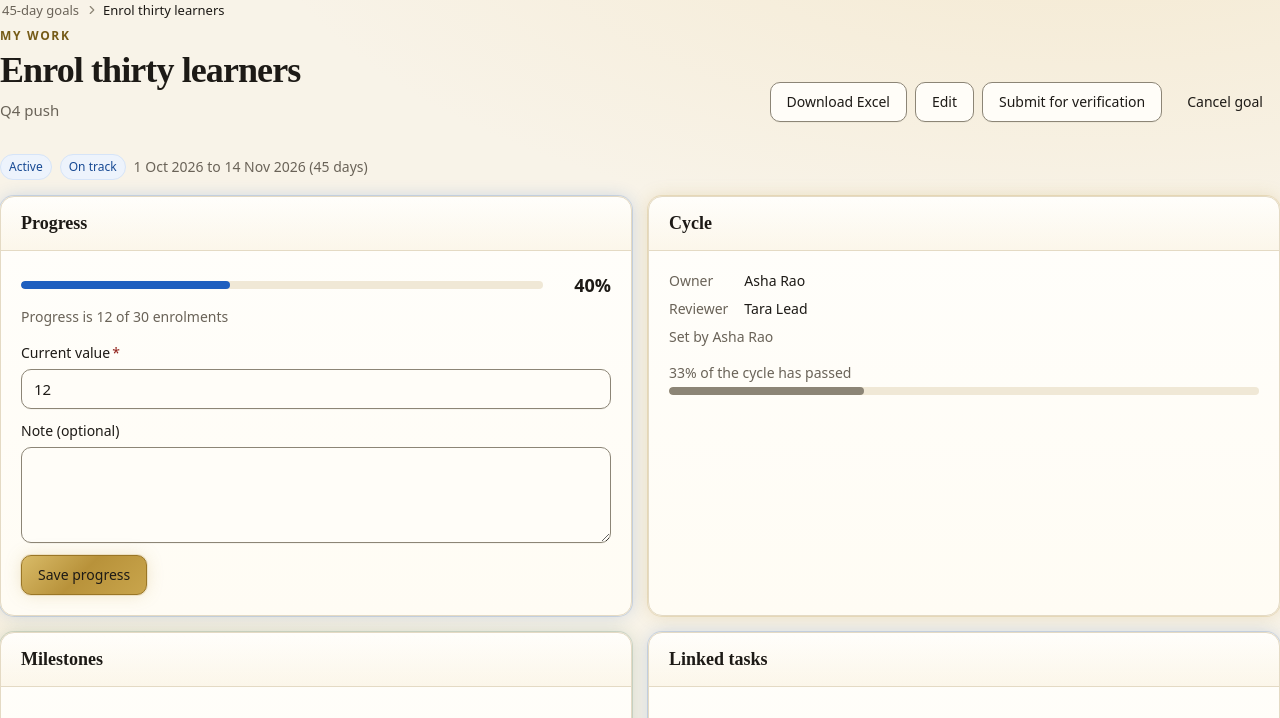
Test: GoalDetailPage › the owner posts progress with the current version
Replace the text in the field labelled "Current value*" with "15": x=316, y=389 [21, 369, 611, 409]
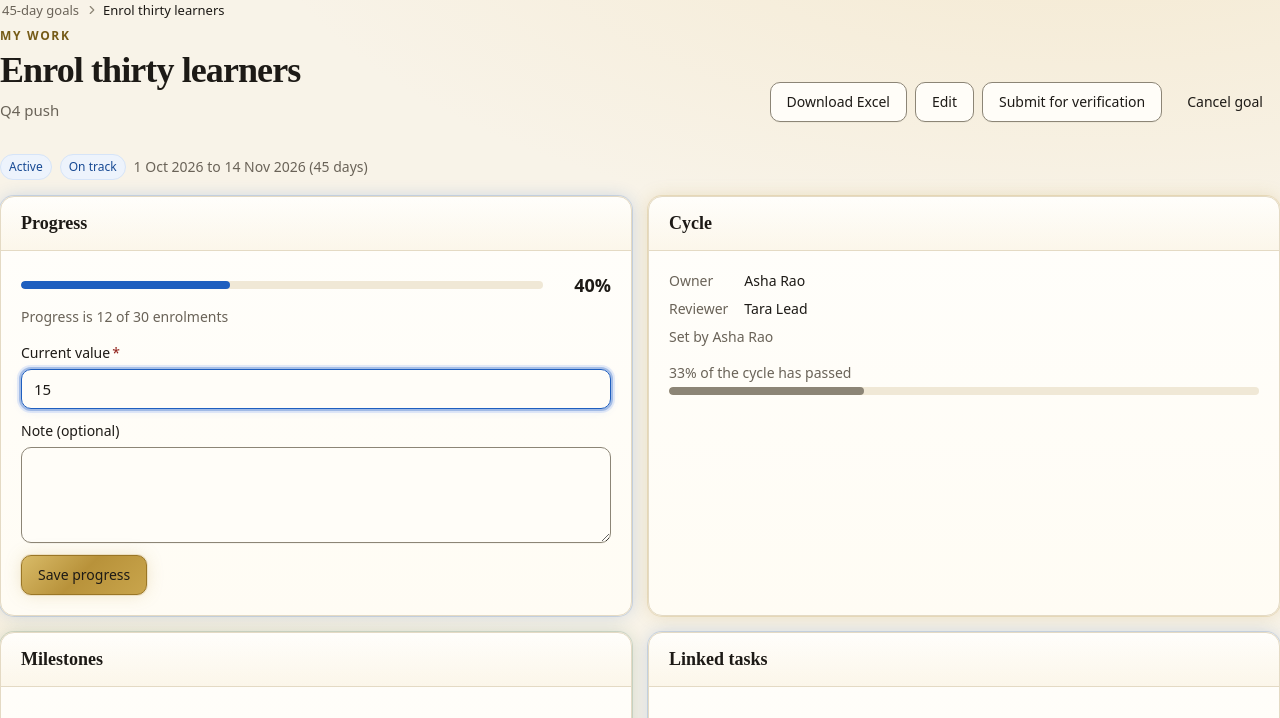
In the text box labelled "Note (optional)": x=316, y=495 [21, 447, 611, 543], type "three more"
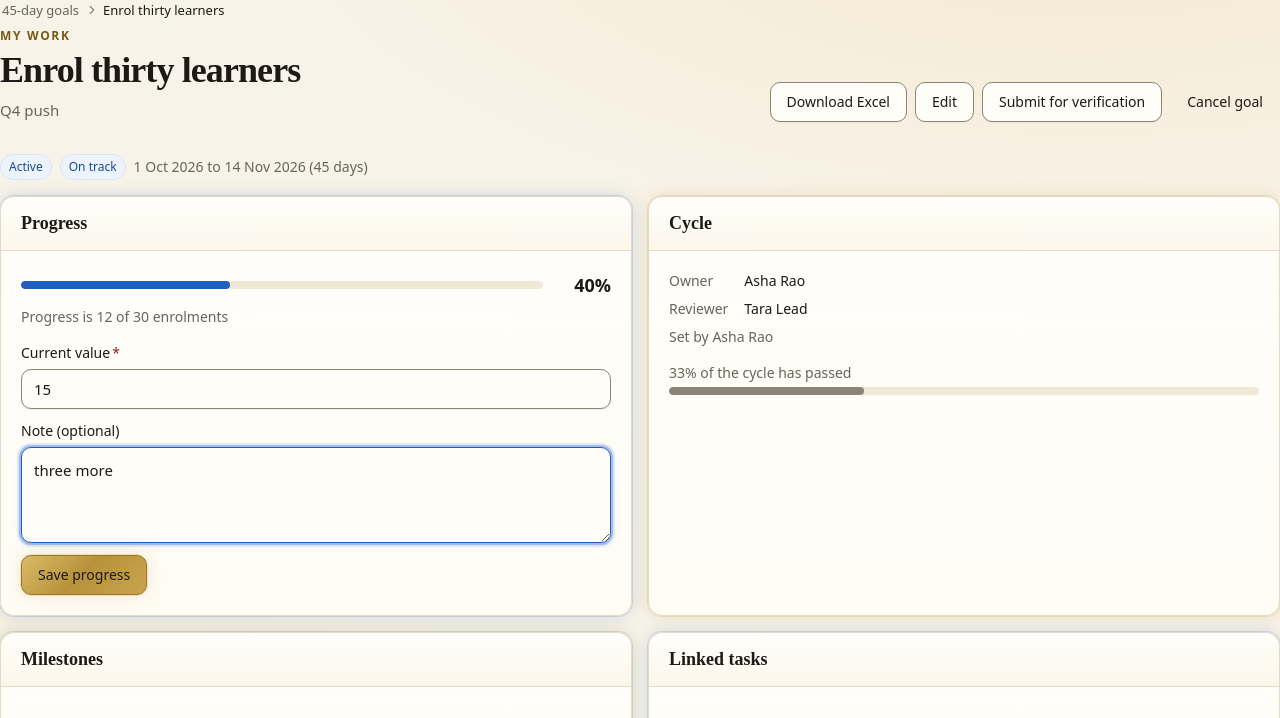
Click the button "Save progress": x=84, y=575 [21, 555, 147, 595]
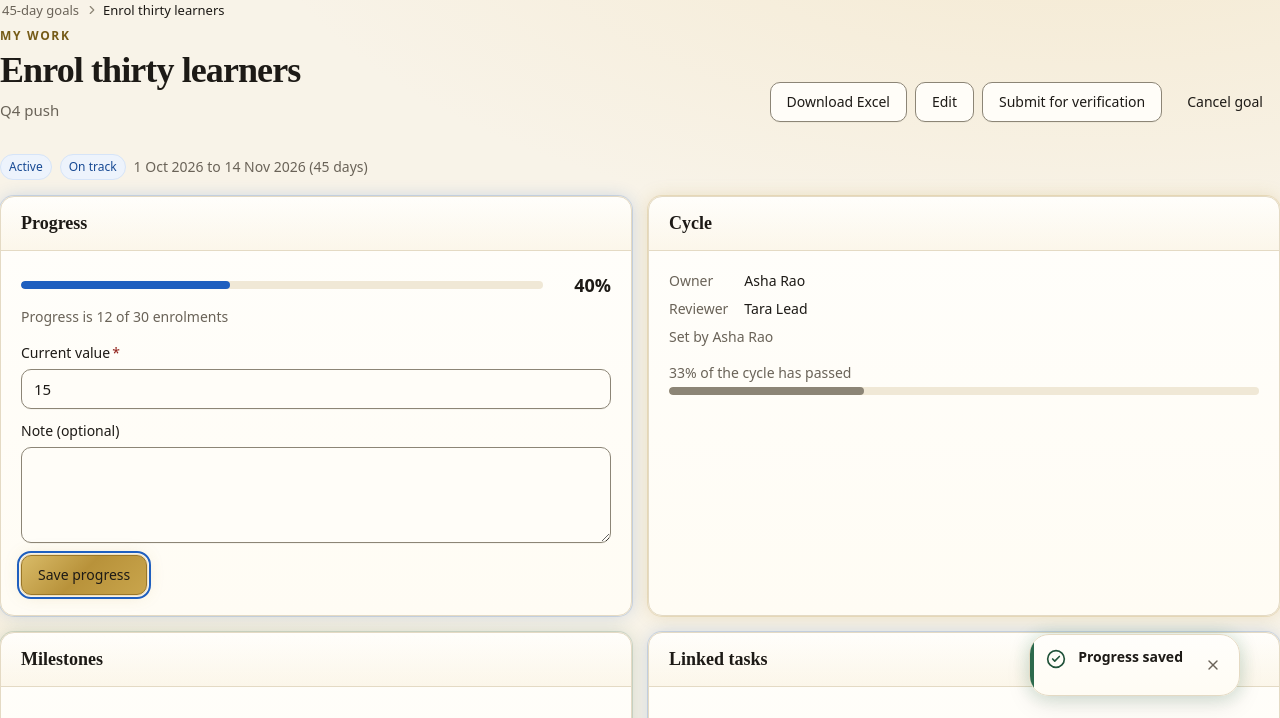
Expected: the text "Progress saved" is shown, [1078, 647, 1183, 667]
